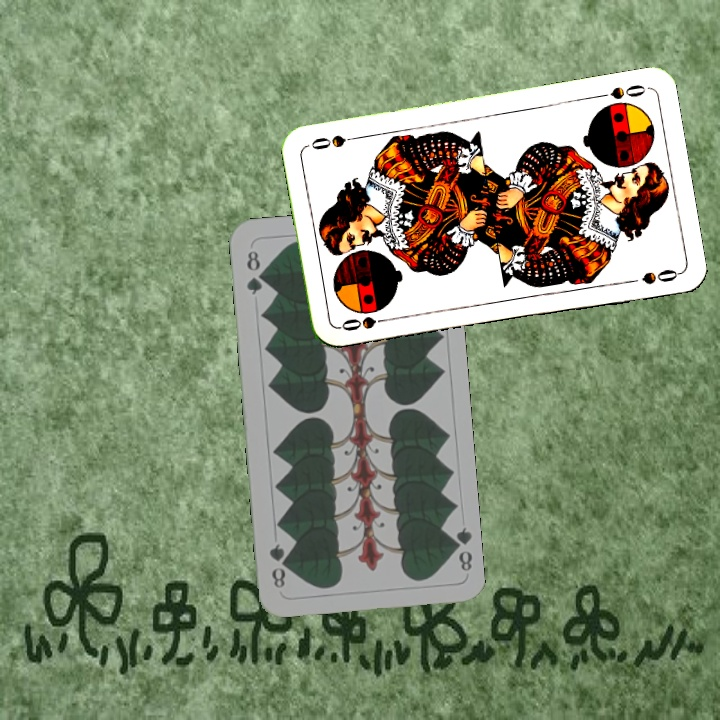G8: (446, 523, 475, 574), (242, 246, 266, 298)
SO: (336, 312, 395, 334), (591, 80, 648, 102)
